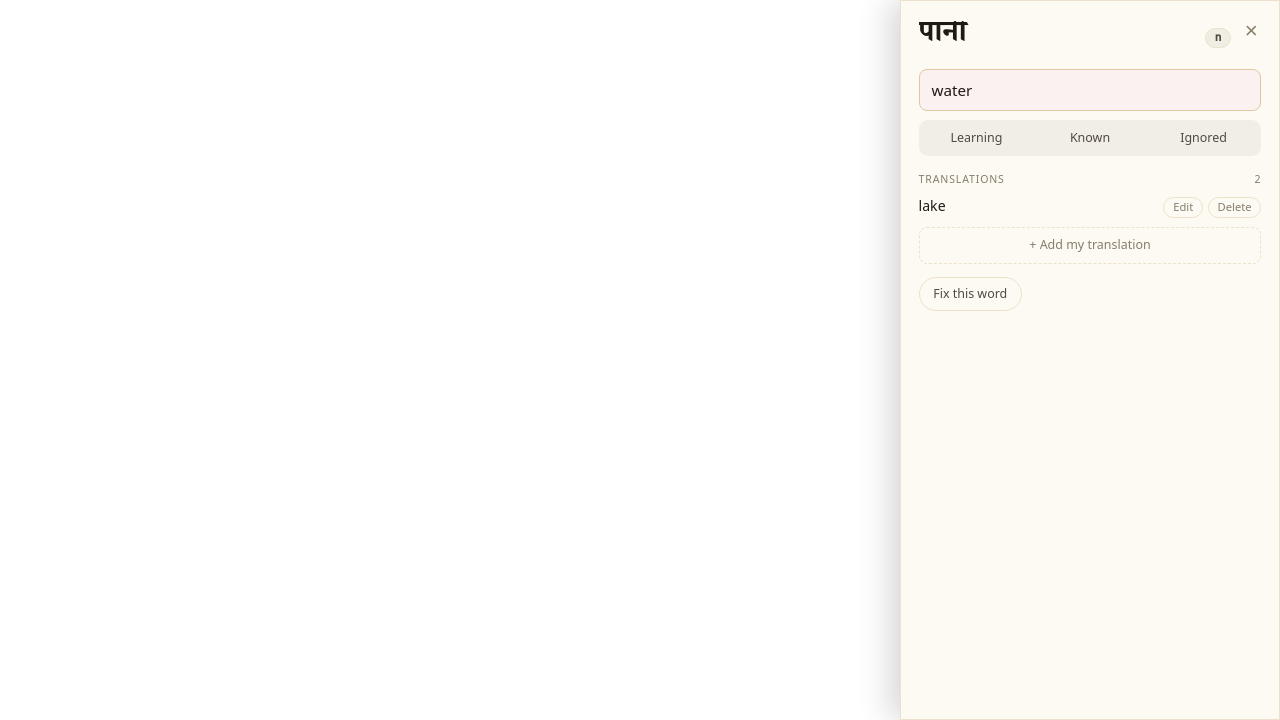
Scenario: WordPopup — edit + delete personal translations › Edit swaps the secondary row for a focused textarea and PATCHes the body on Enter
The width and height of the screenshot is (1280, 720).
Step 1. Click the button with test id "edit-personal" → x=1183, y=207, box [1163,197,1203,218]
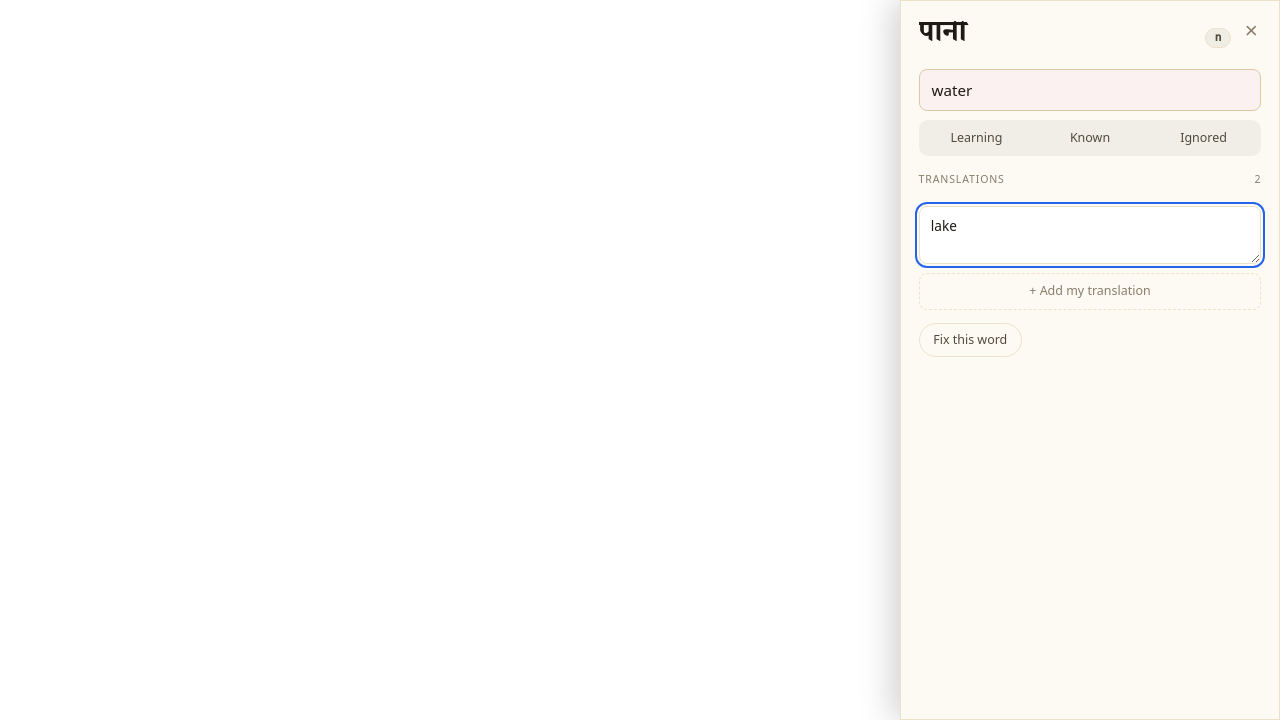
Expected: the text box named "Edit your translation" holds "lake"
Step 2. Replace the text in the text box named "Edit your translation" with "pond" → x=1090, y=235, box [919,206,1261,264]
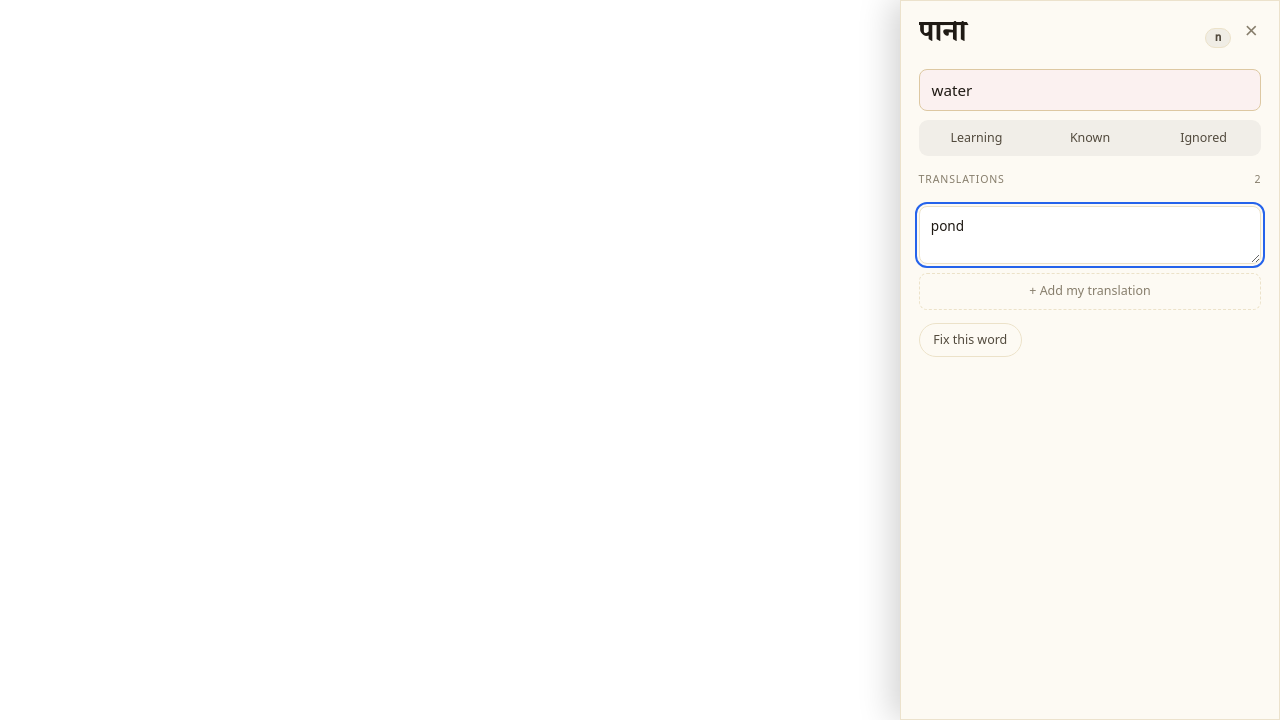
Step 3. Press Enter in the text box named "Edit your translation", box [919,206,1261,264]
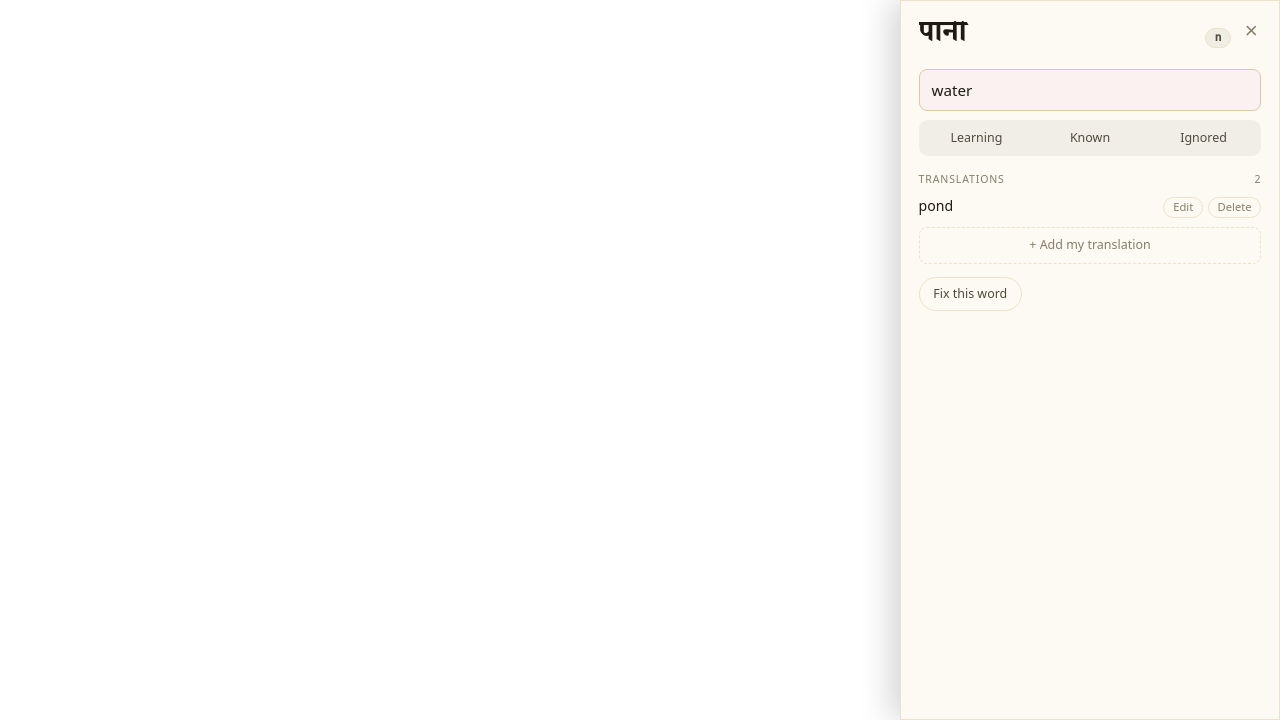
Expected: the form with test id "edit-personal-form" is gone
